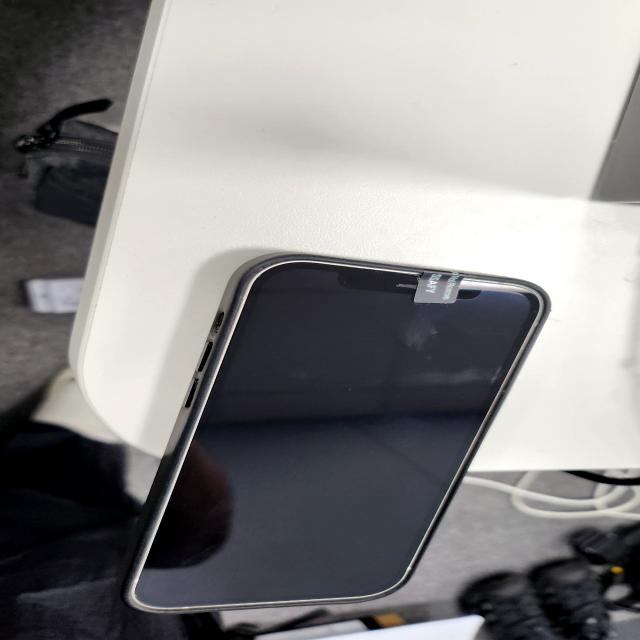phone: (129, 254, 553, 613), (410, 266, 464, 310)
